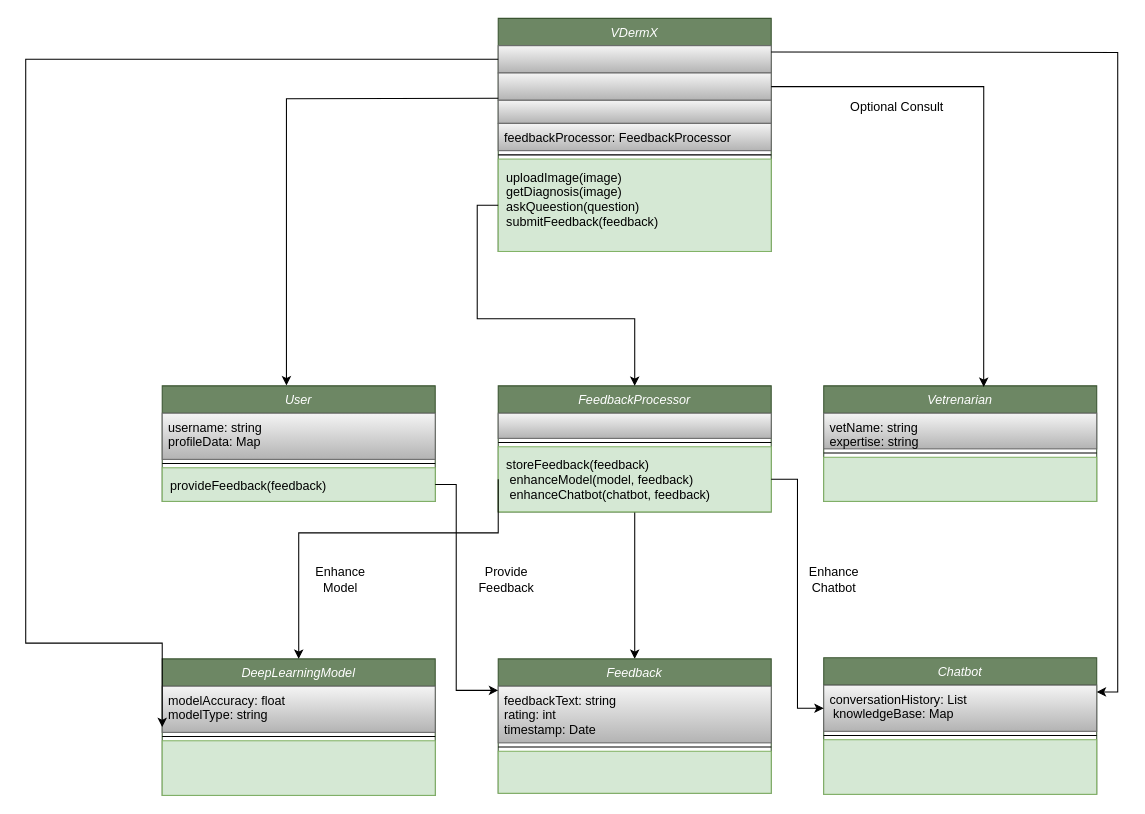
Some shapes in this 1145 by 814 pixel diagram are drawn without their labels. The shapes that lost their labels are listed below. From the top down, each one's centre as x and y in pixels, then its label:
At point 634,59: "user:User".
At point 634,86: "chatbot: Chatbot".
At point 634,111: "deepLearningModel: DeepLearning Model".
At point 634,425: "feedbackData: List".
At point 960,478: "consult()".
At point 298,767: "analyzeImage(image) improveModel(feedback)".
At point 634,771: "submit()".
At point 960,766: "answerQuestion(question) updateKnowledge(feedback)".
